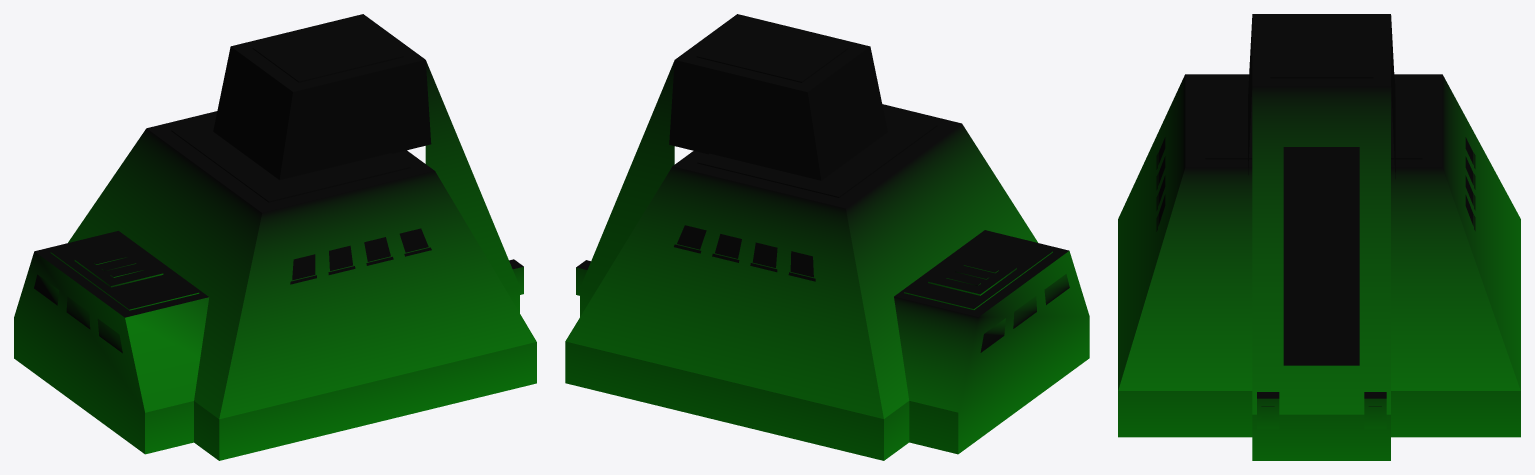
The model's file is hpg_office.glb.
3 renders of one model, left to right at view 1: azimuth 30°, elevation 25°; view 2: azimuth 150°, elevation 25°; view 3: azimuth 270°, elevation 25°, orthographic. The views are drawn at different scales.
Parts seen in each view (by area): view 1: lod0; view 2: lod0; view 3: lod0.
Boxes of the visible parts, box(x1,y1,x2,y2) form: lod0: box(14, 14, 536, 460); lod0: box(565, 14, 1089, 460); lod0: box(1118, 14, 1520, 460).
Size of what is drawn, in the model's own units: 23.96 by 16.04 by 18.
